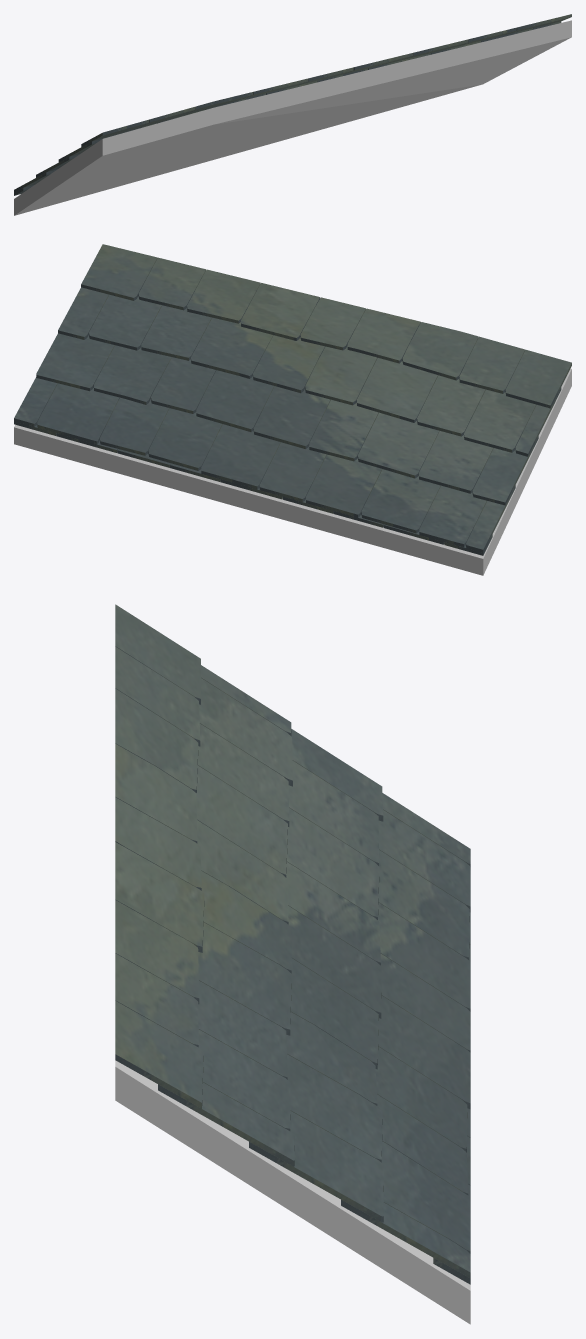
File: CM_SlateRoofKit01_Fitted_LeftShopFold.fbx
The picture shows the model from 3 angles, top to bottom: view 1: azimuth 30°, elevation 25°; view 2: azimuth 150°, elevation 25°; view 3: azimuth 270°, elevation 25°; orthographic projection. The views are drawn at different scales.
Visible parts, largest first — view 1: CM_SlateRoofKit01_Fitted_LeftShopFold_Underlay, CM_SlateRoofKit01_Fitted_LeftShopFold_Slate; view 2: CM_SlateRoofKit01_Fitted_LeftShopFold_Slate, CM_SlateRoofKit01_Fitted_LeftShopFold_Underlay; view 3: CM_SlateRoofKit01_Fitted_LeftShopFold_Slate, CM_SlateRoofKit01_Fitted_LeftShopFold_Underlay.
Boxes of the visible parts, left/top/right/bottom form: CM_SlateRoofKit01_Fitted_LeftShopFold_Underlay: left=14, top=20, right=571, bottom=215; CM_SlateRoofKit01_Fitted_LeftShopFold_Slate: left=14, top=14, right=571, bottom=195; CM_SlateRoofKit01_Fitted_LeftShopFold_Slate: left=14, top=244, right=571, bottom=555; CM_SlateRoofKit01_Fitted_LeftShopFold_Underlay: left=14, top=368, right=571, bottom=575; CM_SlateRoofKit01_Fitted_LeftShopFold_Slate: left=115, top=604, right=470, bottom=1284; CM_SlateRoofKit01_Fitted_LeftShopFold_Underlay: left=115, top=1060, right=470, bottom=1324.
Size of the model in its own units: 2.9 by 0.8998 by 0.95.
